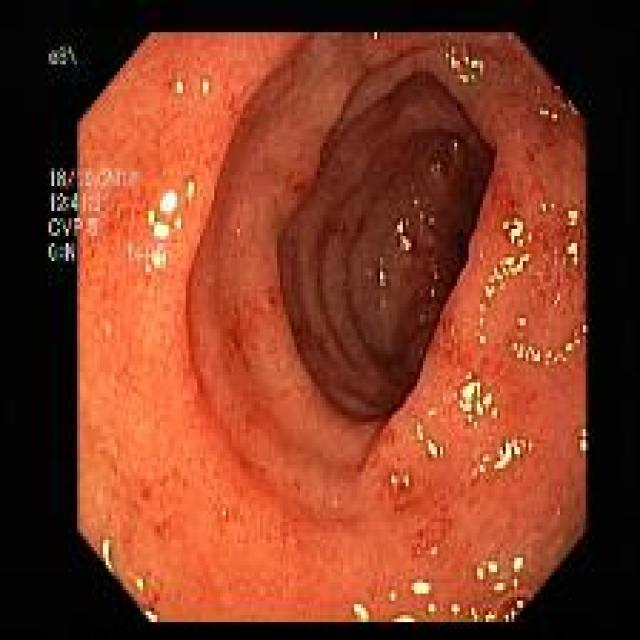ulcerative-colitis: (80, 33, 585, 624)
